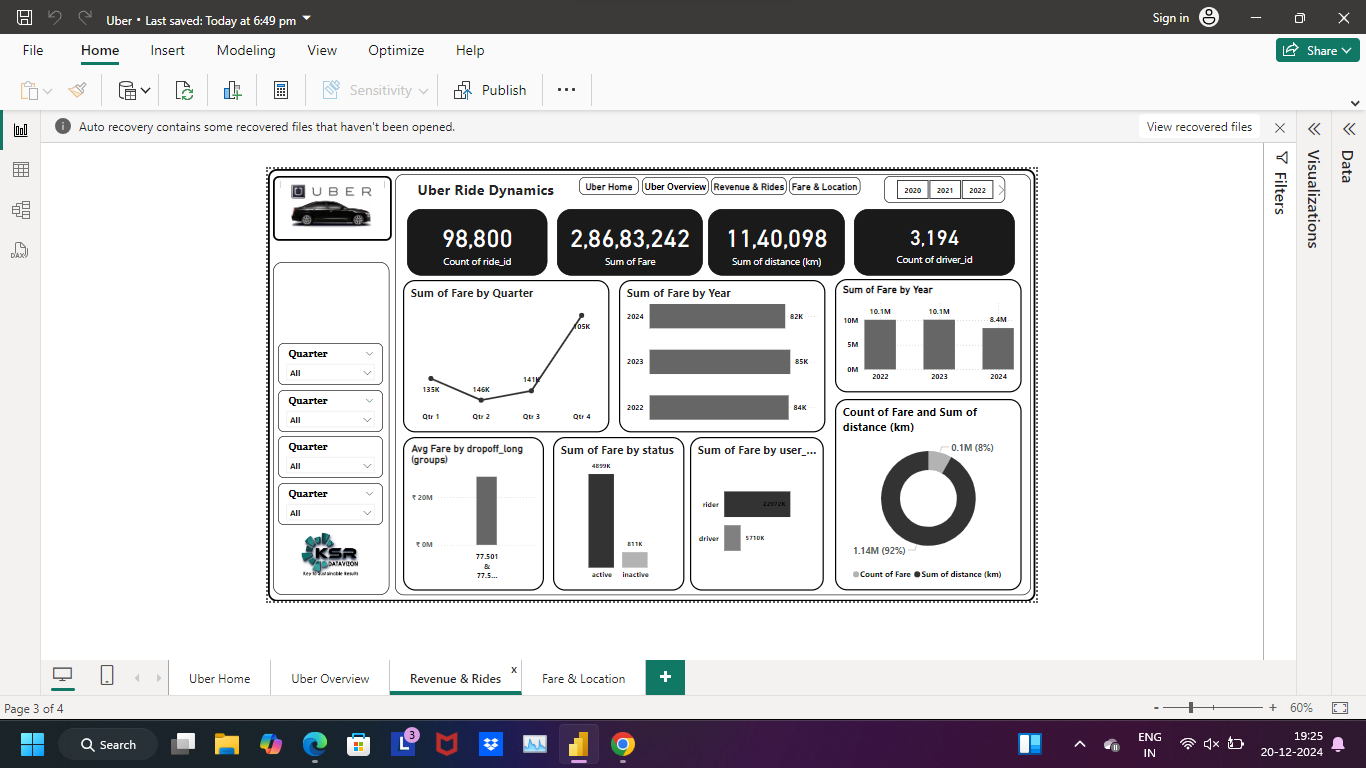

This screenshot's page, from the dashboard's own definition file:
{"tool":"powerbi","page":{"name":"Revenue & Rides","canvas":[1280,720],"ordinal":2},"visuals":[{"type":"shape","box":[0,0,1279.2,720.8],"z":0},{"type":"shape","box":[211.3,7.5,1060.4,701.9],"z":1000},{"type":"slicer","fields":{"Values":["Sheet1.created_at.Variation.Date Hierarchy.Year"]},"box":[1026.4,11.3,202,45.3],"z":2000},{"type":"textbox","box":[232.1,11.3,262.3,41.5],"z":3000},{"type":"actionButton","box":[518.9,13.2,100,30.2],"z":4000},{"type":"card","fields":{"Values":["Driver.driver_id"]},"box":[977.4,66,267.9,111.3],"z":5000},{"type":"card","fields":{"Values":["Rides.distance (km)"]},"box":[734,66,228.3,111.3],"z":6000},{"type":"card","fields":{"Values":["Rides.Fare"]},"box":[481.1,66,243.4,111.3],"z":7000},{"type":"card","fields":{"Values":["Rides.ride_id"]},"box":[232.1,66,234,111.3],"z":8000},{"type":"columnChart","fields":{"Y":["Rides.Fare"],"Category":["Rides.ride_start_time.Variation.Date Hierarchy.Year","Rides.ride_start_time.Variation.Date Hierarchy.Quarter","Rides.ride_start_time.Variation.Date Hierarchy.Month","Rides.ride_start_time.Variation.Date Hierarchy.Day"]},"box":[945.3,183,311.3,188.7],"z":9000},{"type":"donutChart","fields":{"Y":["Rides.Fare","Rides.distance (km)"]},"box":[945.3,383,311.3,318.9],"z":10000},{"type":"lineChart","fields":{"Y":["Rides.Fare"],"Category":["Rides.ride_start_time.Variation.Date Hierarchy.Quarter"]},"box":[225,184.6,344.2,253.8],"z":11000},{"type":"clusteredColumnChart","fields":{"Y":["Rides.Fare"],"Category":["Driver.status"]},"box":[475,446.2,219.2,255.8],"z":12000},{"type":"clusteredColumnChart","fields":{"Category":["Rides.dropoff_long (groups)"],"Y":["Rides.Fare"]},"box":[225,446.2,234.6,255.8],"z":13000},{"type":"shape","box":[7.5,154.7,194.3,554.7],"z":14000},{"type":"actionButton","box":[622.6,13.2,111,30.2],"z":15000},{"type":"actionButton","box":[867.9,13.2,118.9,30.2],"z":16000},{"type":"actionButton","box":[737.7,13.2,126.4,30.2],"z":17000},{"type":"slicer","fields":{"Values":["Rides.ride_end_time.Variation.Date Hierarchy.Quarter"]},"box":[17,522.6,175.5,69.8],"z":18000},{"type":"slicer","fields":{"Values":["Rides.ride_end_time.Variation.Date Hierarchy.Quarter"]},"box":[17,445.3,175.5,69.8],"z":19000},{"type":"slicer","fields":{"Values":["Rides.ride_end_time.Variation.Date Hierarchy.Quarter"]},"box":[17,367.9,175.5,69.8],"z":20000},{"type":"slicer","fields":{"Values":["Rides.ride_end_time.Variation.Date Hierarchy.Quarter"]},"box":[17,290.6,175.5,69.8],"z":21000},{"type":"image","box":[7.5,11.3,198.1,107.5],"z":22000},{"type":"image","box":[17,598.1,175.5,86.8],"z":23000},{"type":"clusteredBarChart","fields":{"Category":["Rides.ride_start_time.Variation.Date Hierarchy.Year"],"Y":["Rides.Fare"]},"box":[584.6,184.6,344.2,253.8],"z":24000},{"type":"clusteredBarChart","fields":{"Y":["Rides.Fare"],"Category":["Sheet1.user_type"]},"box":[703.8,446.2,223.1,255.8],"z":25000}]}

Visuals, with their boxes on the page's 1280x720 design canvas (x1, y1, x2, y2). These are canvas units, not pixel positions in the 1366x768 screenshot, which may show the page scaled, cropped or inside an application window:
shape: crop(0, 0, 1279, 721)
shape: crop(211, 8, 1272, 709)
slicer - Sheet1.created_at.Variation.Date Hierarchy.Year: crop(1026, 11, 1228, 57)
textbox: crop(232, 11, 494, 53)
actionButton: crop(519, 13, 619, 43)
card - Driver.driver_id: crop(977, 66, 1245, 177)
card - Rides.distance (km): crop(734, 66, 962, 177)
card - Rides.Fare: crop(481, 66, 724, 177)
card - Rides.ride_id: crop(232, 66, 466, 177)
columnChart - Rides.Fare x Rides.ride_start_time.Variation.Date Hierarchy.Year: crop(945, 183, 1257, 372)
donutChart - Rides.Fare x Rides.distance (km): crop(945, 383, 1257, 702)
lineChart - Rides.Fare x Rides.ride_start_time.Variation.Date Hierarchy.Quarter: crop(225, 185, 569, 438)
clusteredColumnChart - Rides.Fare x Driver.status: crop(475, 446, 694, 702)
clusteredColumnChart - Rides.dropoff_long (groups) x Rides.Fare: crop(225, 446, 460, 702)
shape: crop(8, 155, 202, 709)
actionButton: crop(623, 13, 734, 43)
actionButton: crop(868, 13, 987, 43)
actionButton: crop(738, 13, 864, 43)
slicer - Rides.ride_end_time.Variation.Date Hierarchy.Quarter: crop(17, 523, 192, 592)
slicer - Rides.ride_end_time.Variation.Date Hierarchy.Quarter: crop(17, 445, 192, 515)
slicer - Rides.ride_end_time.Variation.Date Hierarchy.Quarter: crop(17, 368, 192, 438)
slicer - Rides.ride_end_time.Variation.Date Hierarchy.Quarter: crop(17, 291, 192, 360)
image: crop(8, 11, 206, 119)
image: crop(17, 598, 192, 685)
clusteredBarChart - Rides.ride_start_time.Variation.Date Hierarchy.Year x Rides.Fare: crop(585, 185, 929, 438)
clusteredBarChart - Rides.Fare x Sheet1.user_type: crop(704, 446, 927, 702)
